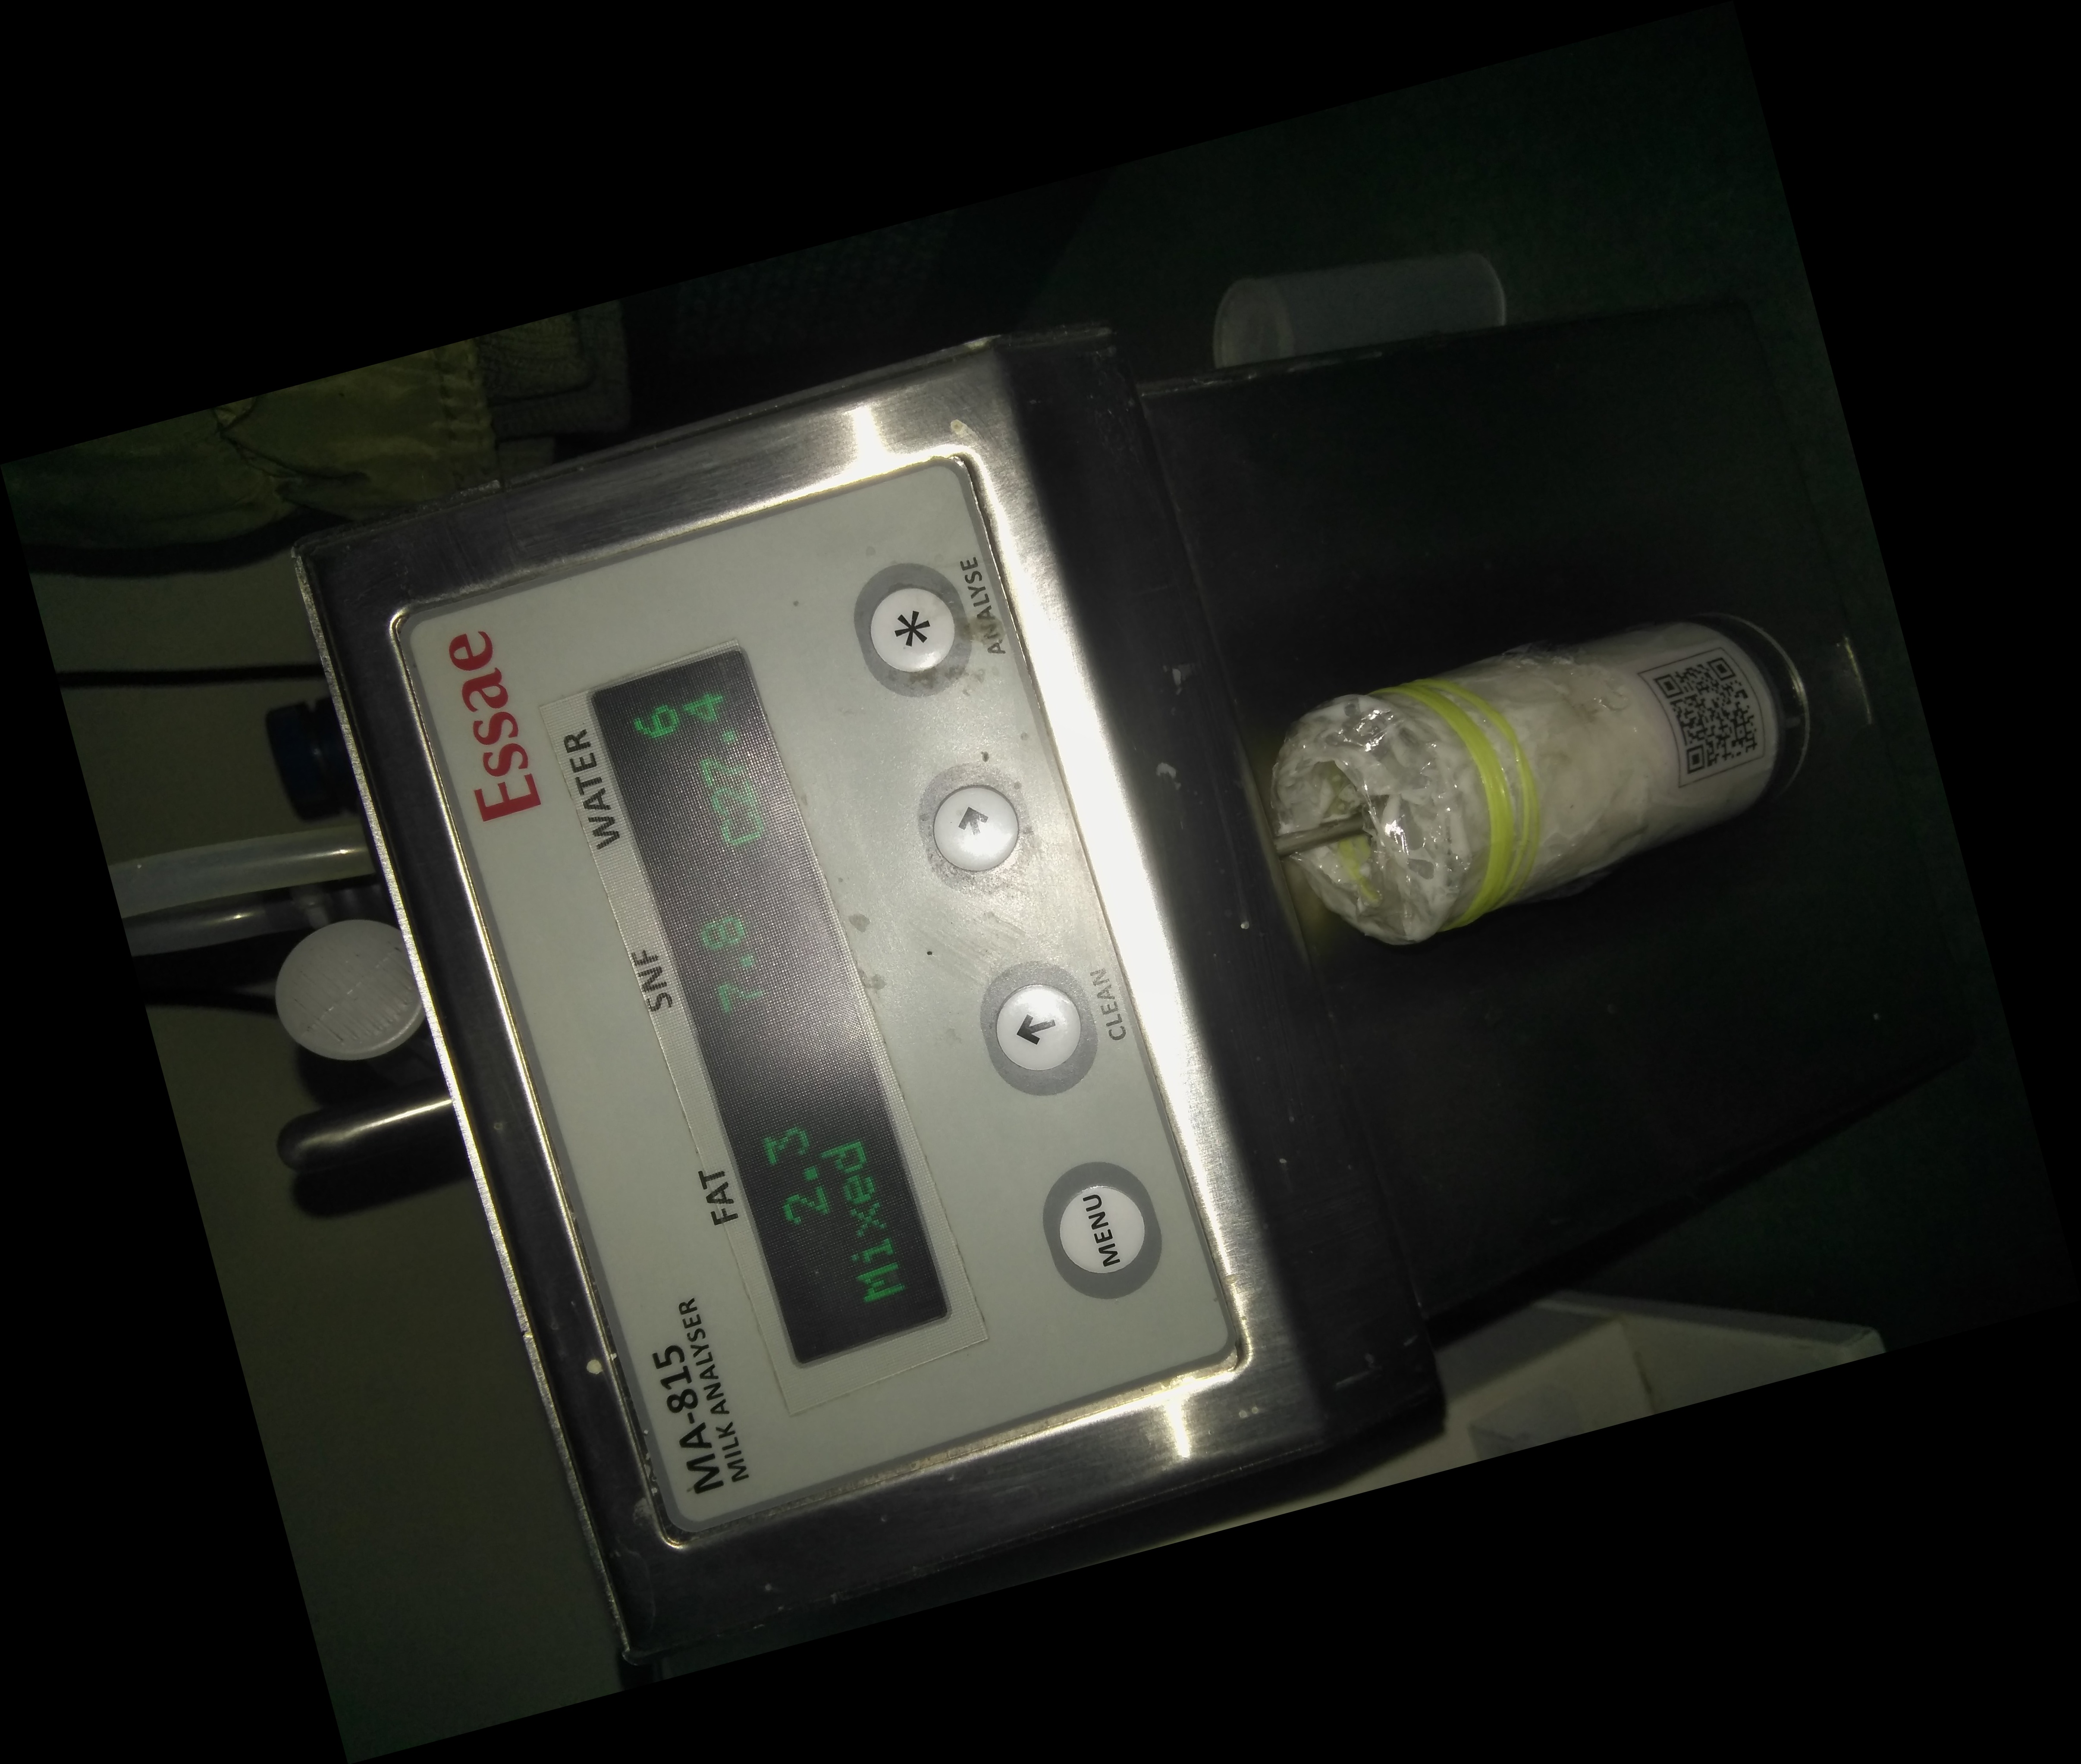lcd: (565, 628, 961, 1372)
qr: (1626, 632, 1761, 803)
